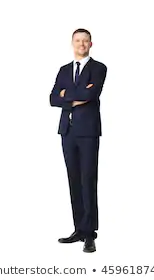person: (51, 31, 106, 89)
